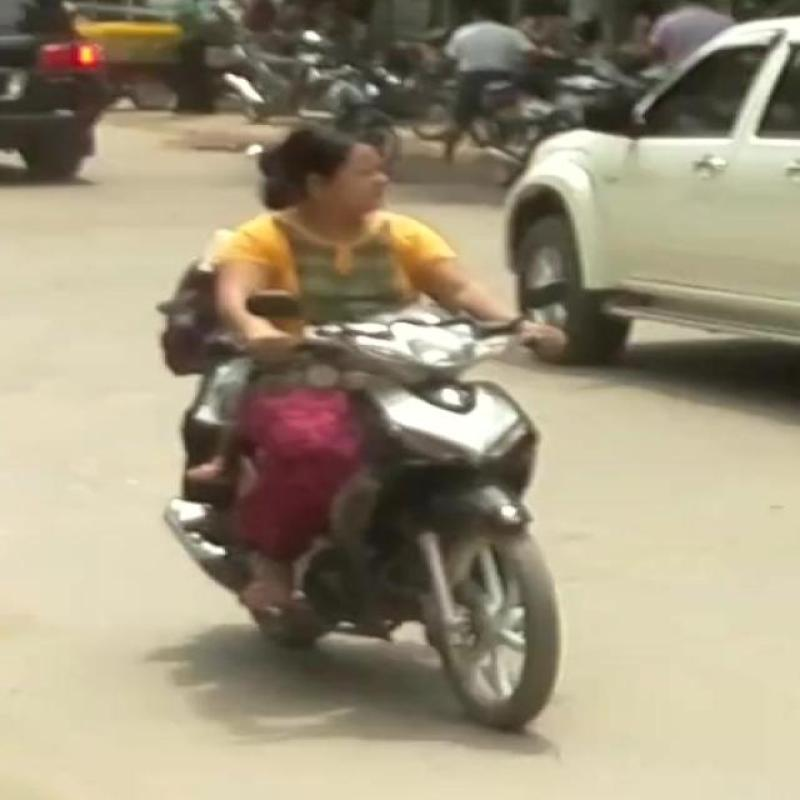nohelmet: (228, 99, 411, 233)
